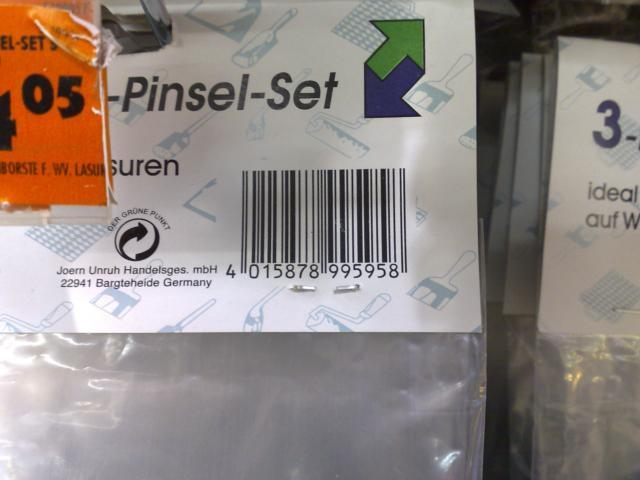Barcode: (221, 156, 425, 297)
